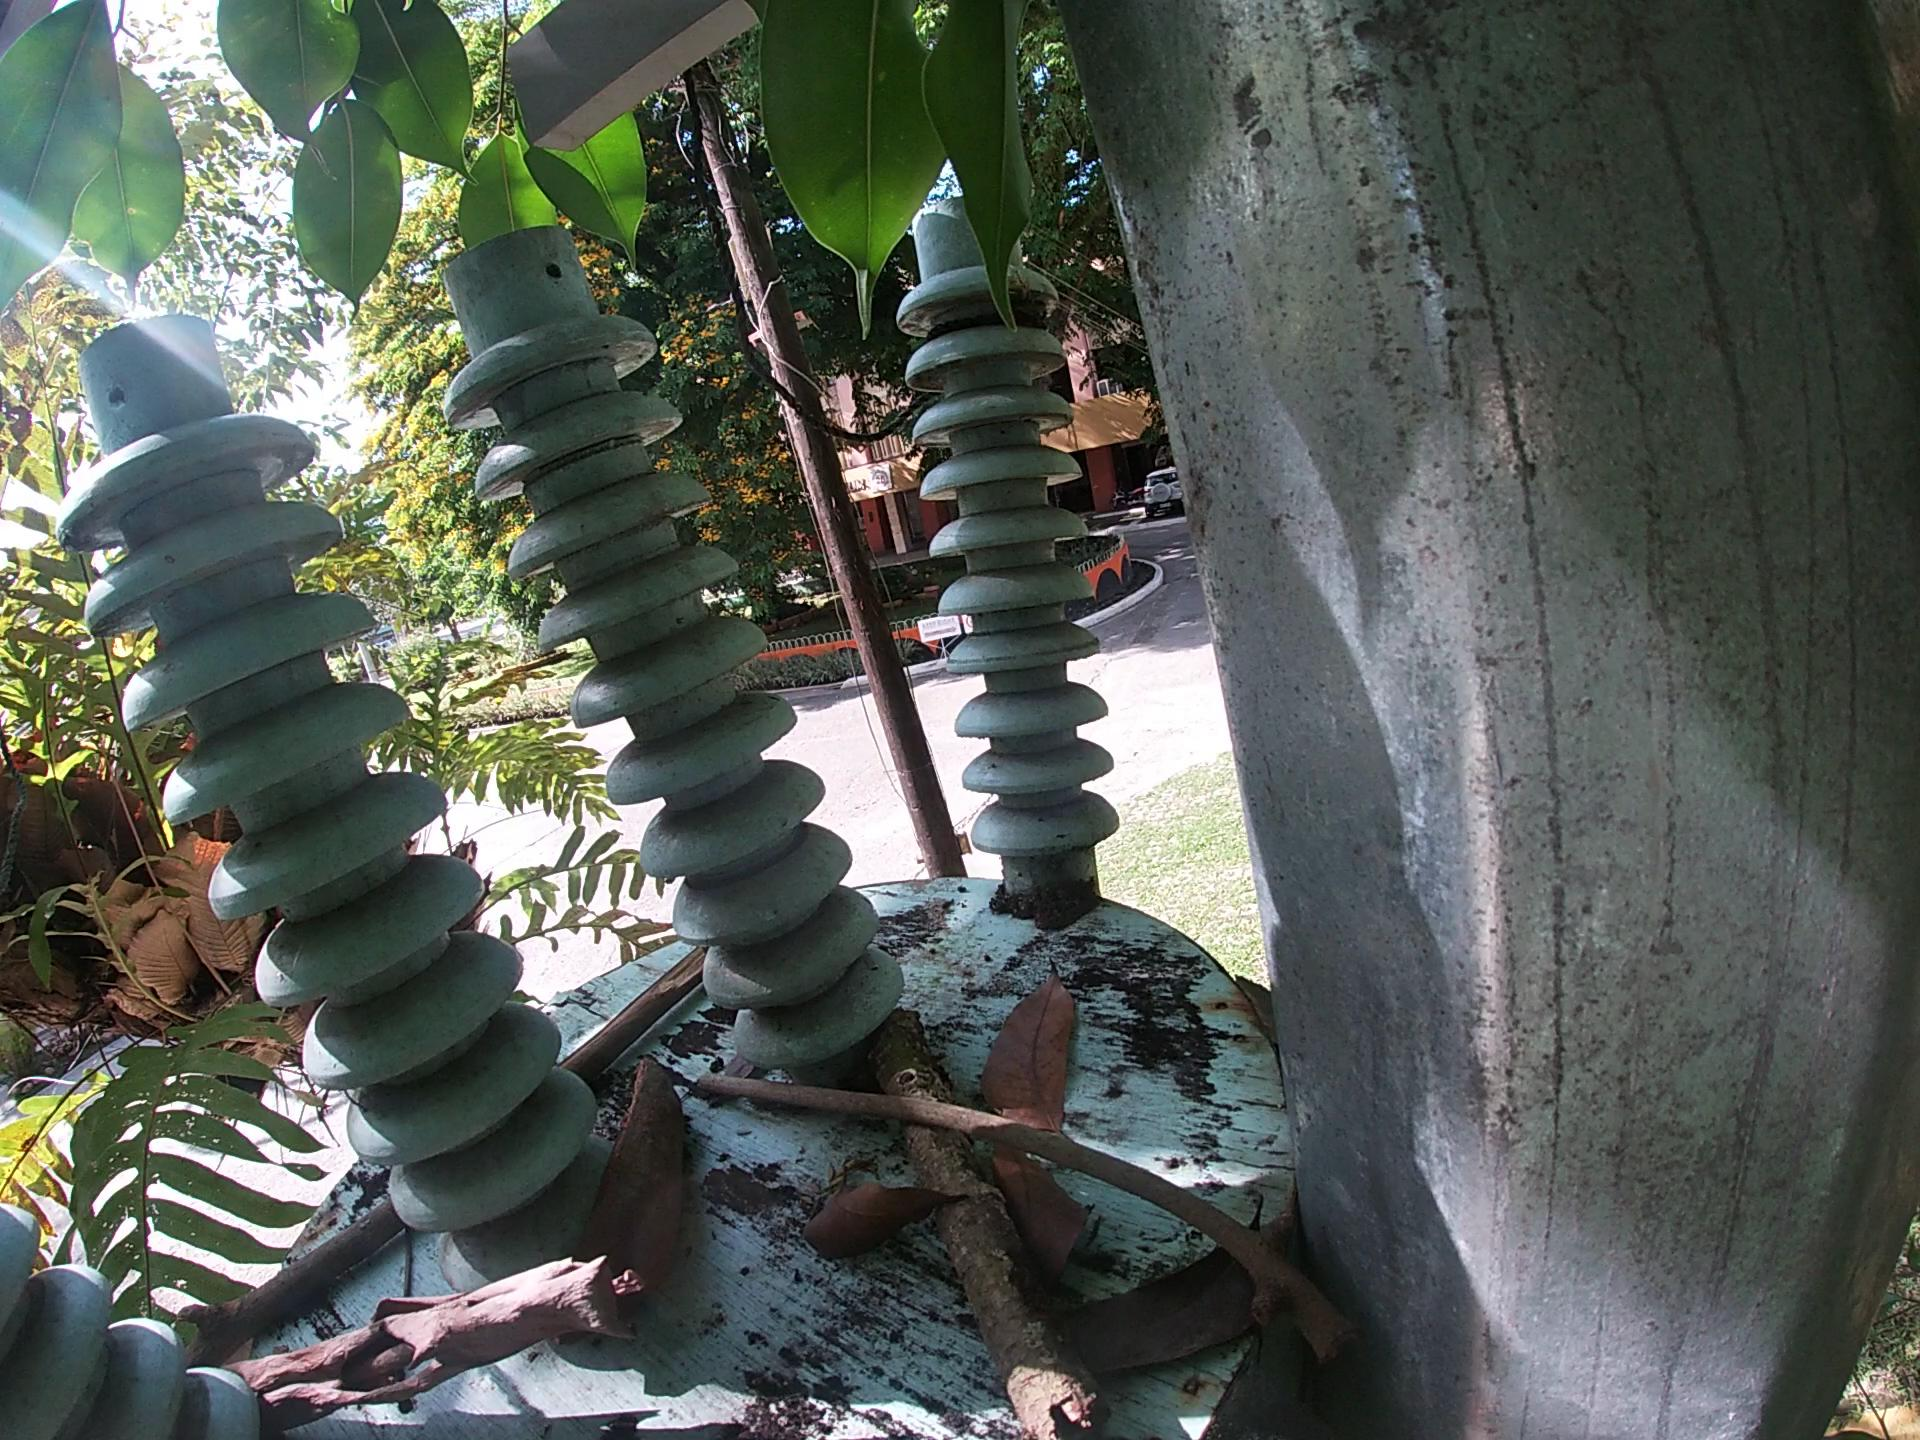leaf: (1079, 1269, 1287, 1383), (971, 965, 1104, 1136), (987, 1144, 1110, 1286), (798, 1201, 974, 1265)
mahogany fruit: (590, 1048, 700, 1263)
tree branch: (705, 1066, 1323, 1317), (877, 1026, 1120, 1429), (216, 1237, 656, 1417), (168, 1212, 414, 1351), (559, 942, 712, 1092), (381, 1230, 425, 1302)
